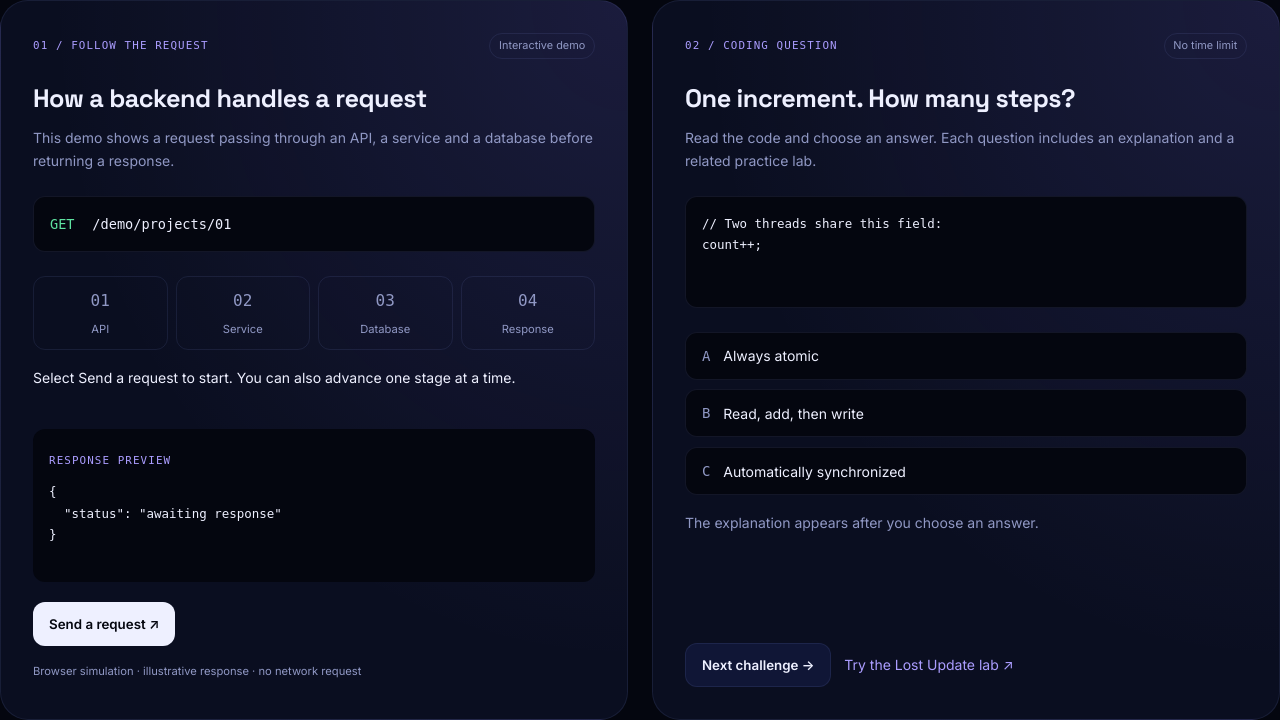
Test: reduced motion keeps the journey manual
Click the button "Send a request ↗": (104, 624) left=33, top=602, right=175, bottom=646
Wait 5000 ms
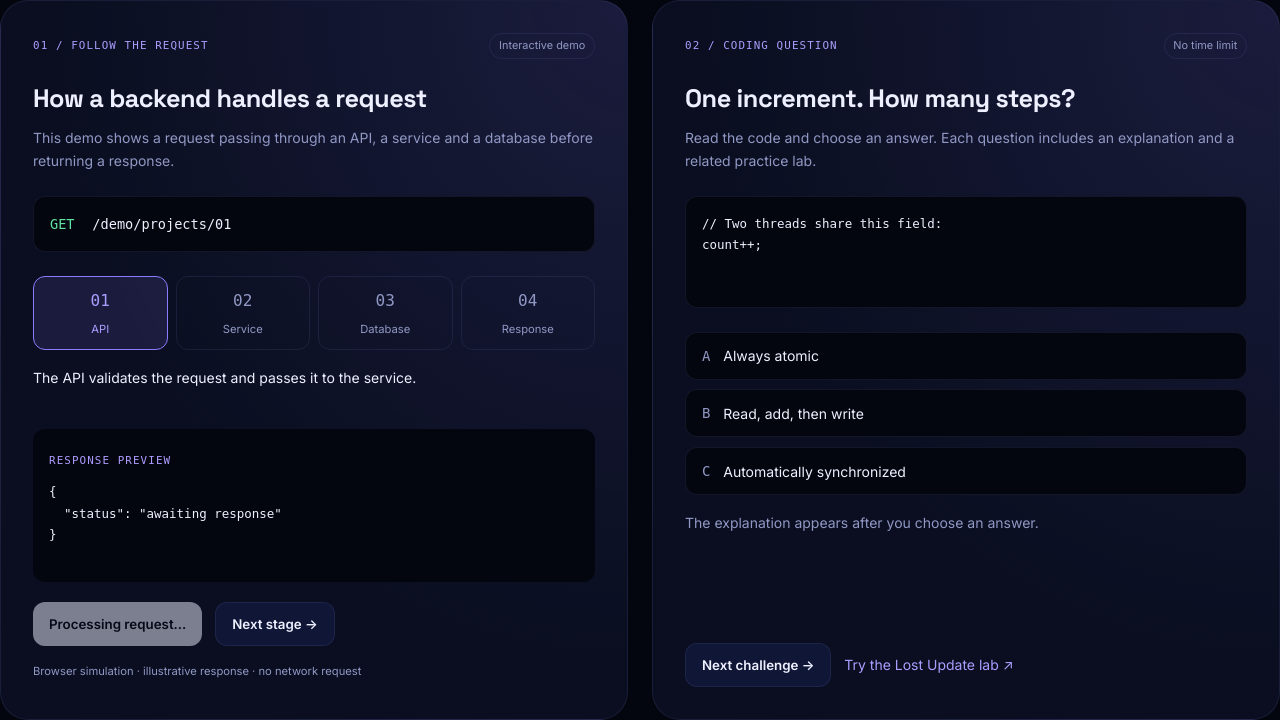
Now the text "The API validates the request and passes it to the service." is shown, box left=33, top=369, right=416, bottom=386
Click the button "Next stage →": (275, 624) left=215, top=602, right=335, bottom=646
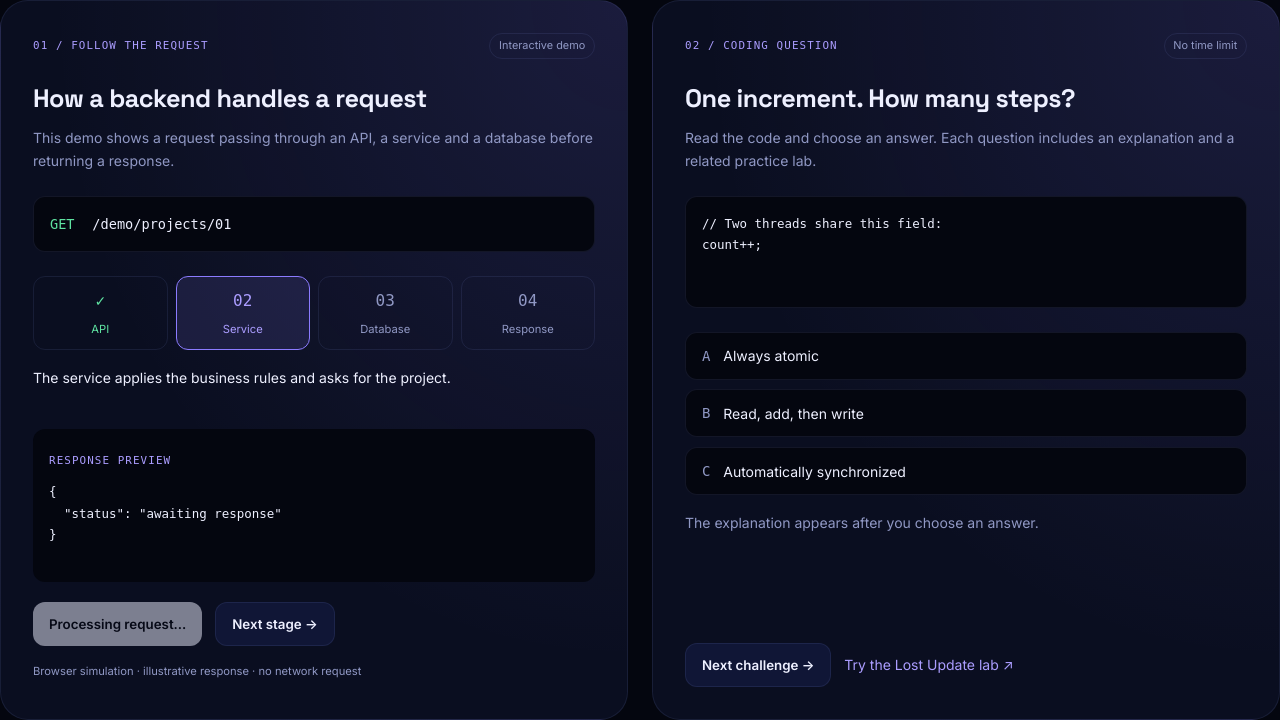
Now the text "The service applies the business rules and asks for the project." is shown, box left=33, top=369, right=451, bottom=386
